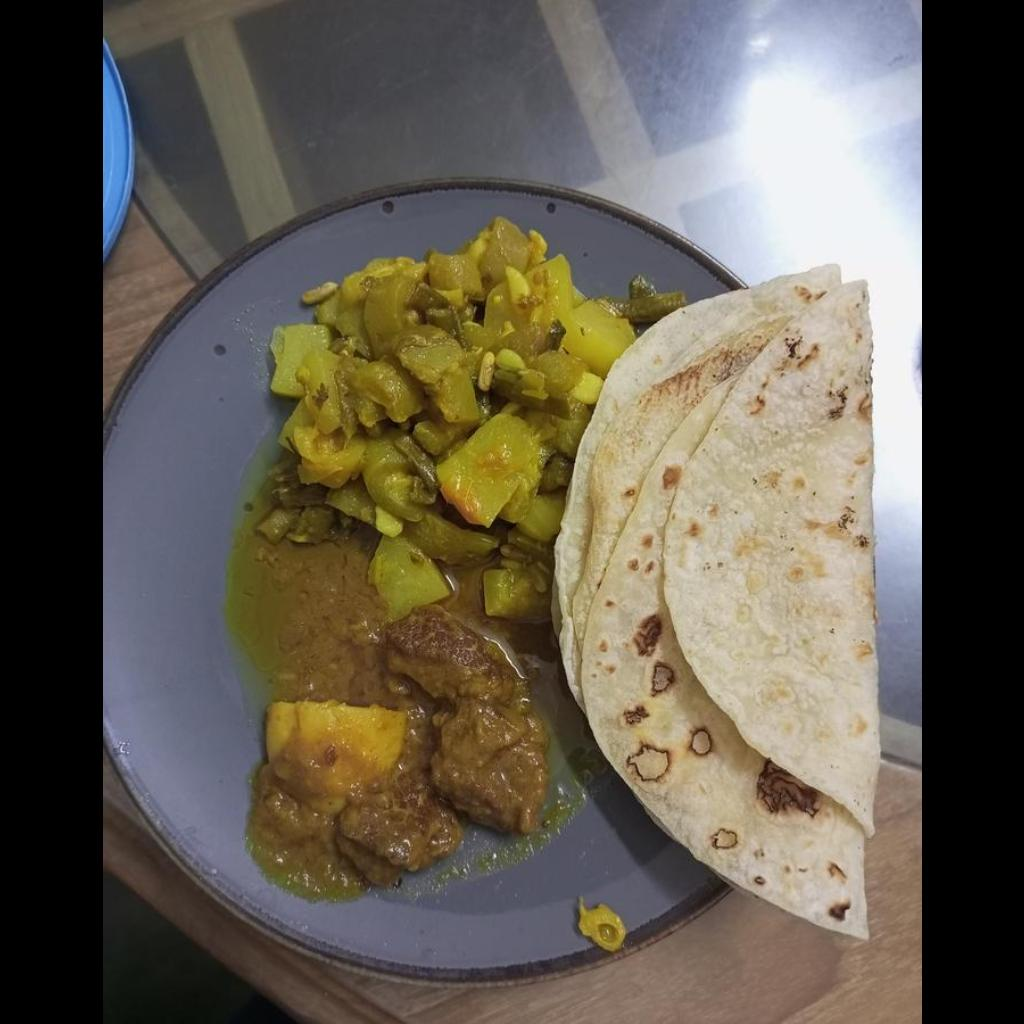beef: (340, 604, 539, 870)
potato: (264, 701, 407, 817)
ruti: (578, 264, 878, 936)
vegetable: (260, 225, 627, 622)
